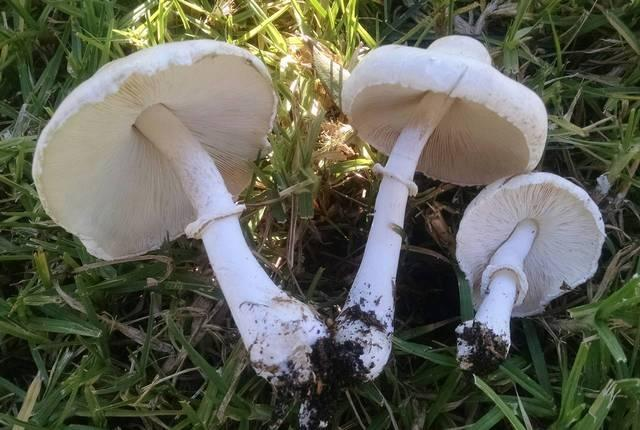poisonous_mushroom: (30, 37, 334, 426), (331, 35, 549, 382), (453, 170, 606, 375)
